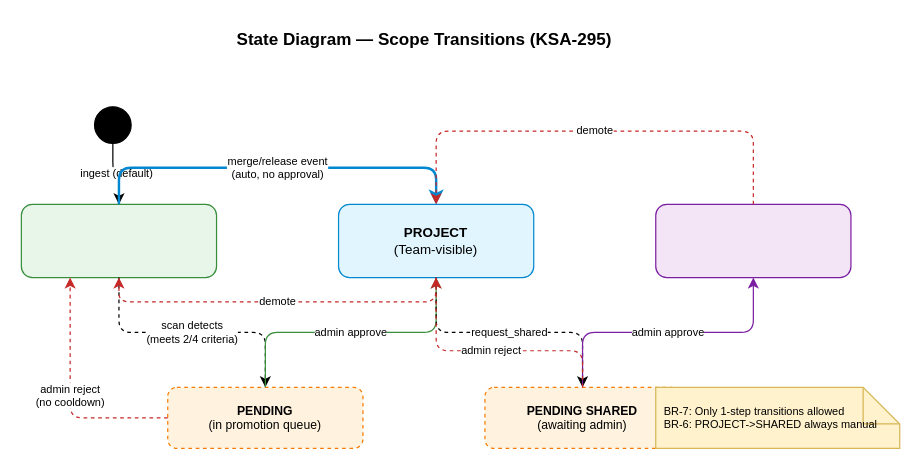
The diagram is 921 pixels wide and 470 high, and some of its shapes have lost their labels. The box of each missing label's shape, as (x1, y1, x2, y2) in pixels:
SHARED (Company-wide): (655, 203, 851, 278)
USER (Private - owner only): (20, 203, 217, 278)
